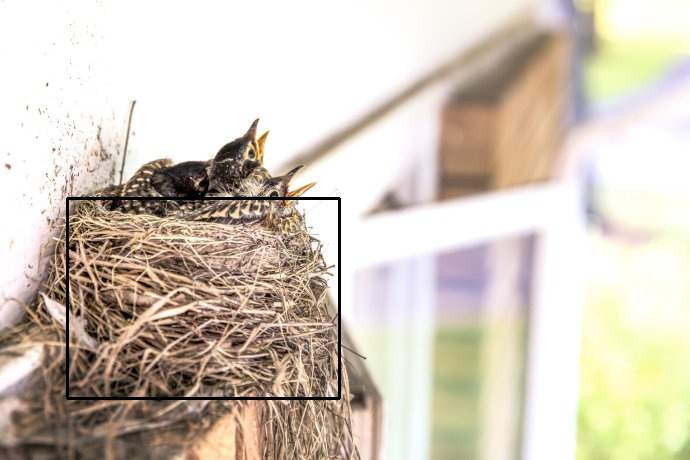bird-nest: (31, 161, 366, 458)
